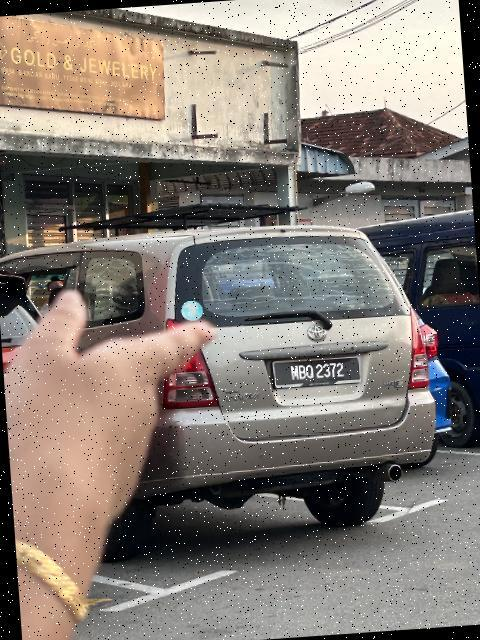License_Plate: (272, 352, 365, 391)
MBO2372: (272, 352, 365, 391)
car: (1, 209, 445, 553)
